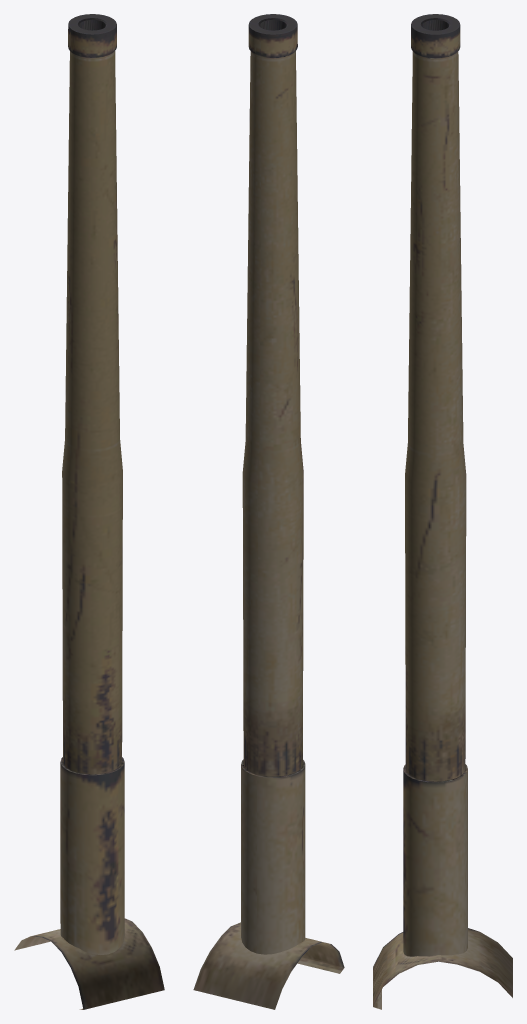
Rendered from Gun_03.glb.
The picture shows the model from 3 angles, left to right: view 1: azimuth 30°, elevation 25°; view 2: azimuth 150°, elevation 25°; view 3: azimuth 270°, elevation 25°; orthographic projection.
Parts seen in each view (by area): view 1: set_0_group_0; view 2: set_0_group_0; view 3: set_0_group_0.
Part boxes in pixels (box(x1,y1,x2,y2)): set_0_group_0: box(14, 14, 164, 1009); set_0_group_0: box(193, 14, 344, 1009); set_0_group_0: box(373, 14, 512, 1009).
Bounding box in the file's own units: 0.3178 × 3.57 × 0.4691.
Materials: 1 (1 with a texture image).
